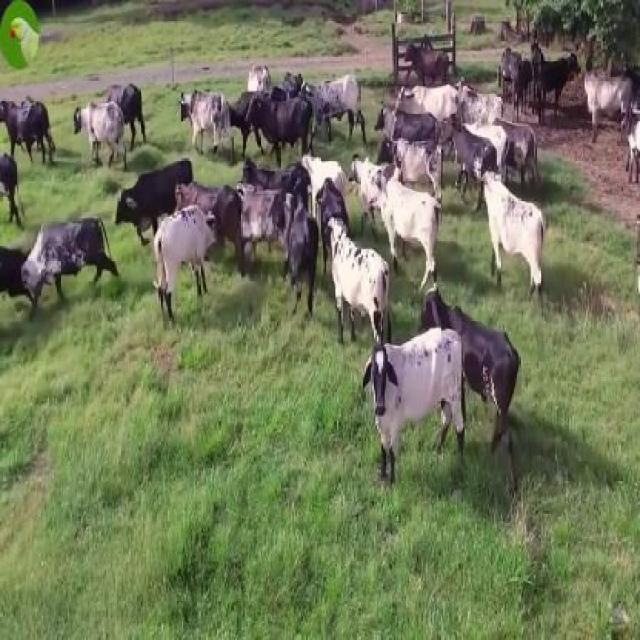Cow: (365, 330, 466, 468), (326, 212, 389, 352), (483, 165, 546, 302)
